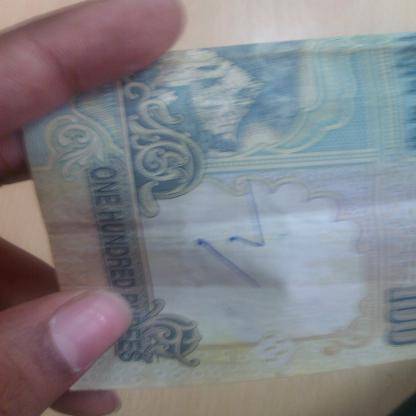Old100Back: (18, 30, 416, 393)
